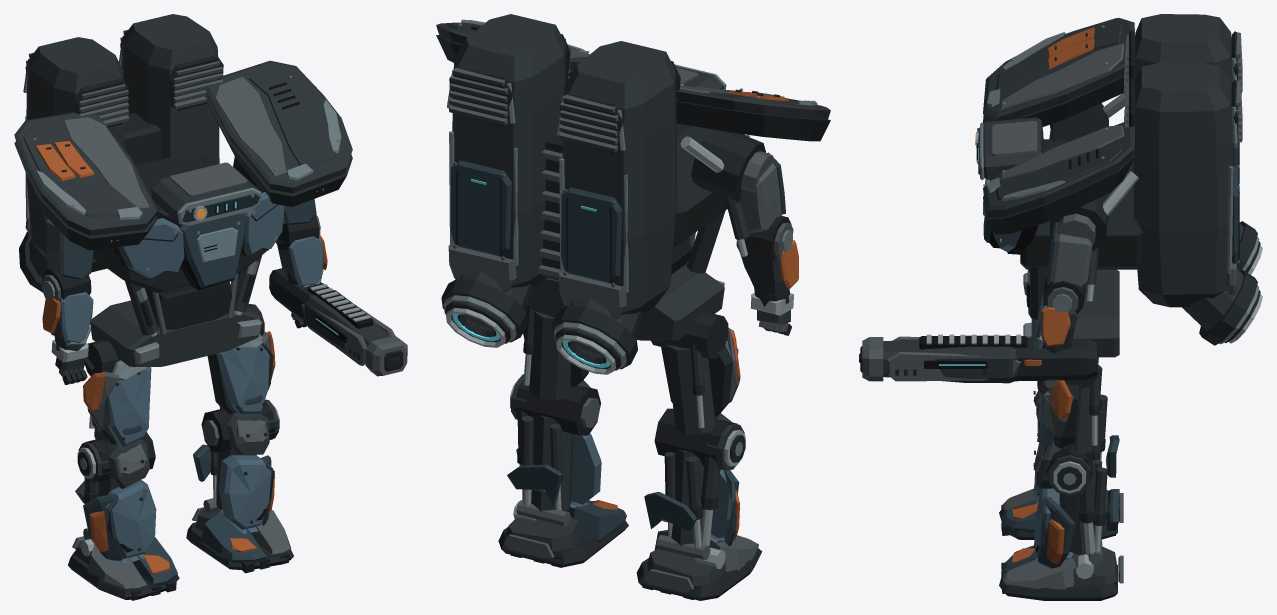
The model's file is m07-cangyan-v3.glb.
3 renders of one model, left to right at view 1: azimuth 30°, elevation 25°; view 2: azimuth 150°, elevation 25°; view 3: azimuth 270°, elevation 25°, orthographic. The views are drawn at different scales.
Parts seen in each view (by area): view 1: M07_Upper_armor, M07_Shin_L_armor, M07_Shin_R_armor, M07_Rifle_armor, M07_Thigh_L_armor, M07_Foot_R_armor, M07_Foot_L_armor, M07_Thigh_R_armor; view 2: M07_Upper_armor, M07_Shin_L_armor, M07_Shin_R_armor, M07_Thigh_L_armor, M07_Foot_R_armor, M07_Foot_L_armor, M07_Thigh_R_armor, M07_Upper_optics; view 3: M07_Upper_armor, M07_Rifle_armor, M07_Shin_R_armor, M07_Foot_R_armor, M07_Thigh_R_armor, M07_Foot_L_armor, M07_Shin_L_armor.
Boxes of the visible parts, bbox=[...] form: M07_Upper_armor: bbox=[14, 14, 352, 384]; M07_Shin_L_armor: bbox=[75, 432, 156, 560]; M07_Shin_R_armor: bbox=[193, 399, 279, 529]; M07_Rifle_armor: bbox=[269, 268, 407, 376]; M07_Thigh_L_armor: bbox=[83, 340, 151, 447]; M07_Foot_R_armor: bbox=[186, 507, 293, 573]; M07_Foot_L_armor: bbox=[68, 536, 179, 600]; M07_Thigh_R_armor: bbox=[207, 304, 275, 413]; M07_Upper_armor: bbox=[436, 14, 830, 374]; M07_Shin_L_armor: bbox=[644, 408, 745, 559]; M07_Shin_R_armor: bbox=[507, 374, 601, 526]; M07_Thigh_L_armor: bbox=[651, 312, 740, 434]; M07_Foot_R_armor: bbox=[498, 500, 628, 567]; M07_Foot_L_armor: bbox=[636, 530, 762, 600]; M07_Thigh_R_armor: bbox=[522, 303, 588, 400]; M07_Upper_optics: bbox=[452, 179, 610, 368]; M07_Upper_armor: bbox=[976, 14, 1262, 393]; M07_Rifle_armor: bbox=[859, 334, 1096, 383]; M07_Shin_R_armor: bbox=[1033, 438, 1119, 568]; M07_Foot_R_armor: bbox=[999, 545, 1123, 600]; M07_Thigh_R_armor: bbox=[1037, 356, 1102, 453]; M07_Foot_L_armor: bbox=[999, 488, 1123, 539]; M07_Shin_L_armor: bbox=[1033, 390, 1119, 499].
Size of the model in its own units: 10.96 by 16.57 by 12.1.
